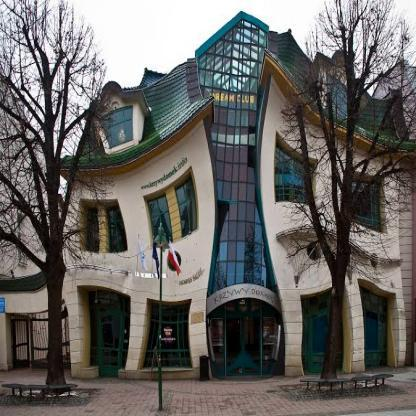Building Outline: (0, 9, 415, 380)
Deco: (206, 284, 282, 315), (140, 156, 188, 190), (179, 266, 205, 285), (191, 312, 204, 325)
Door: (11, 302, 71, 369), (225, 307, 261, 377), (225, 314, 261, 377), (99, 309, 123, 377), (310, 312, 329, 373)
Facade: (60, 10, 416, 380)
Glass Wall: (198, 19, 272, 294)
Roof: (60, 11, 416, 170)
Shop: (88, 291, 131, 368), (143, 303, 193, 369), (262, 317, 278, 366)
Window: (198, 19, 272, 294), (301, 289, 343, 374), (88, 291, 131, 368), (275, 144, 314, 205), (359, 286, 388, 368), (349, 180, 382, 232), (98, 106, 133, 147), (147, 194, 173, 249), (174, 174, 196, 238), (326, 73, 347, 120), (107, 206, 127, 252), (211, 317, 223, 373), (225, 298, 261, 314), (86, 208, 99, 252), (167, 253, 181, 271), (307, 245, 317, 260), (370, 254, 377, 266)
